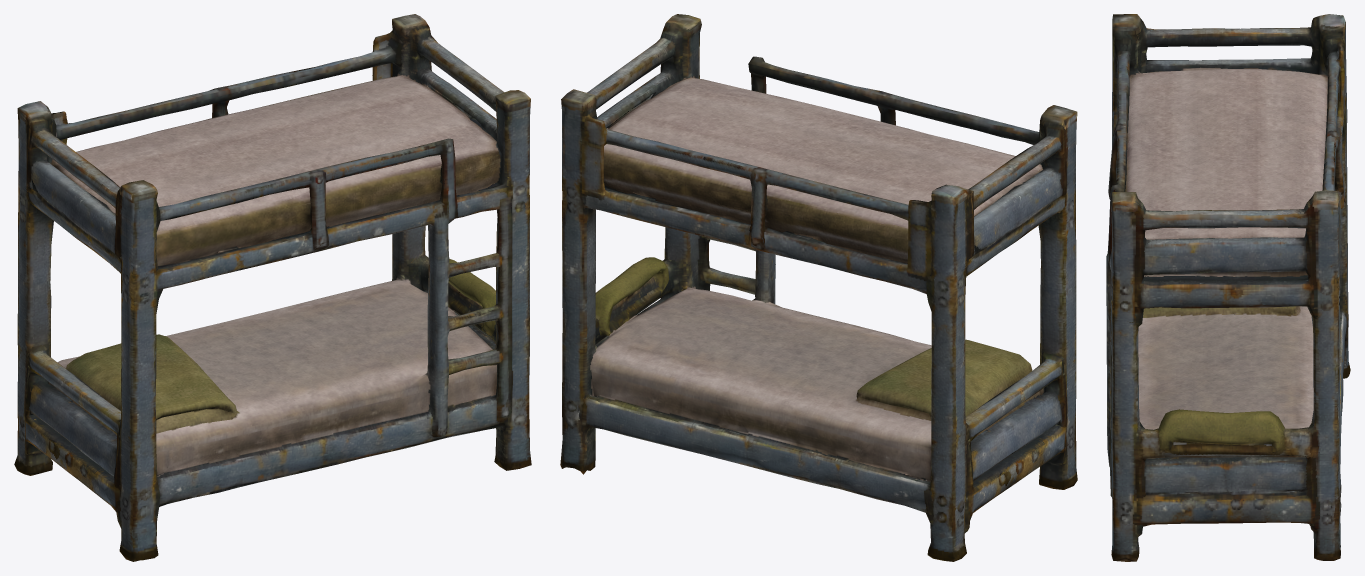
File: raw.glb
The picture shows the model from 3 angles, left to right: view 1: azimuth 30°, elevation 25°; view 2: azimuth 150°, elevation 25°; view 3: azimuth 270°, elevation 25°; orthographic projection. The views are drawn at different scales.
Bounding box in the file's own units: 0.9577 × 0.8197 × 0.5033.
Materials: 1 (1 with a texture image).
